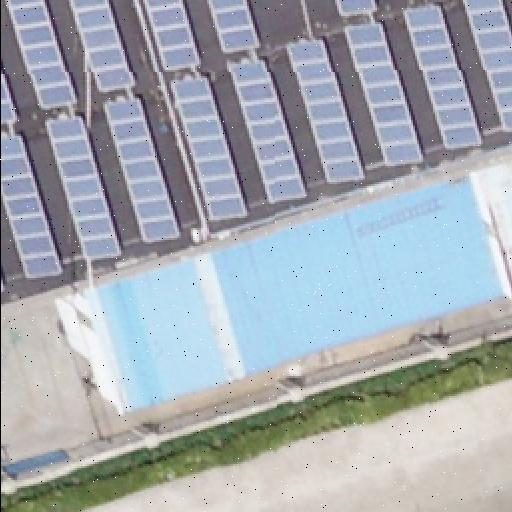solar-panel: (226, 57, 306, 207), (401, 4, 479, 156), (105, 97, 183, 247), (285, 38, 363, 186), (46, 119, 122, 265), (347, 22, 421, 170), (172, 78, 248, 222), (0, 132, 64, 280), (9, 1, 79, 111), (460, 1, 512, 135), (72, 0, 136, 96), (143, 0, 201, 72), (205, 1, 259, 55), (0, 65, 16, 127), (332, 1, 376, 23), (1, 280, 7, 296)
